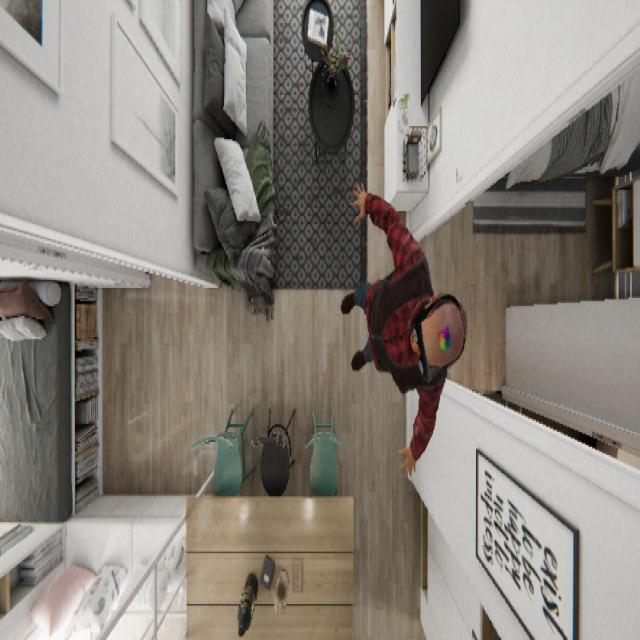Colored-Marker: (436, 321, 452, 353)
Human: (340, 178, 468, 480)
